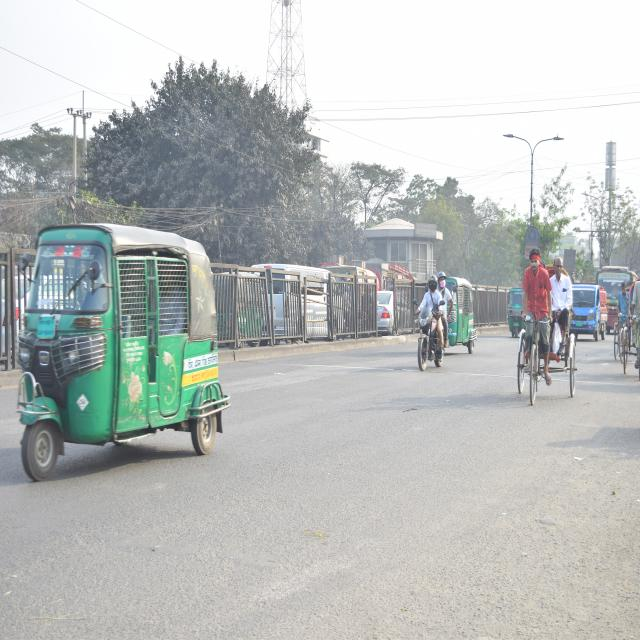bus: (598, 269, 640, 330)
motorbike: (412, 301, 448, 374)
pickup-van: (568, 280, 600, 341)
